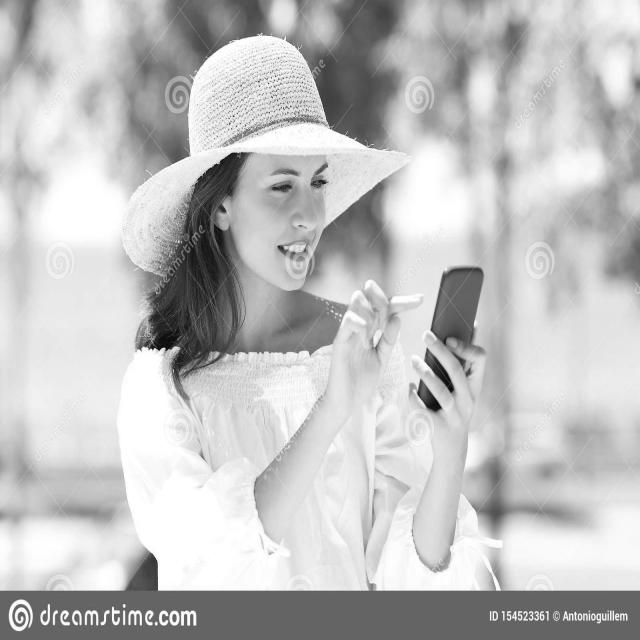No gun_phone: (417, 266, 483, 411)
